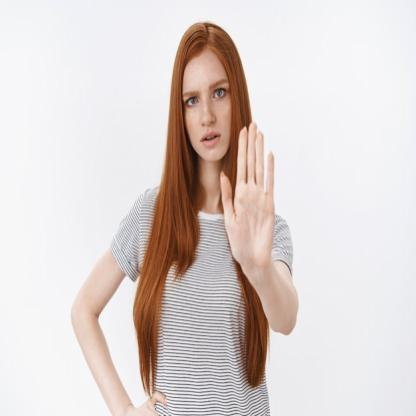stop: (216, 119, 280, 272)
